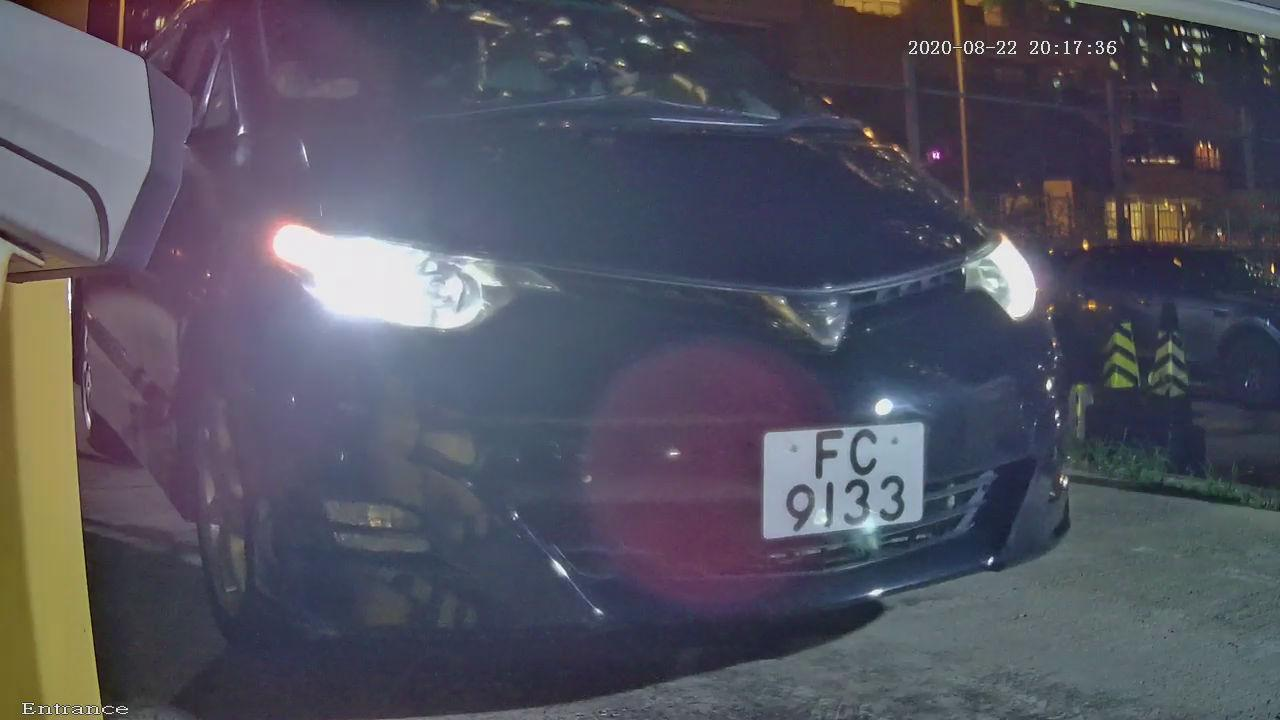Car: (41, 1, 1161, 704)
License Plate: (743, 402, 943, 560)
